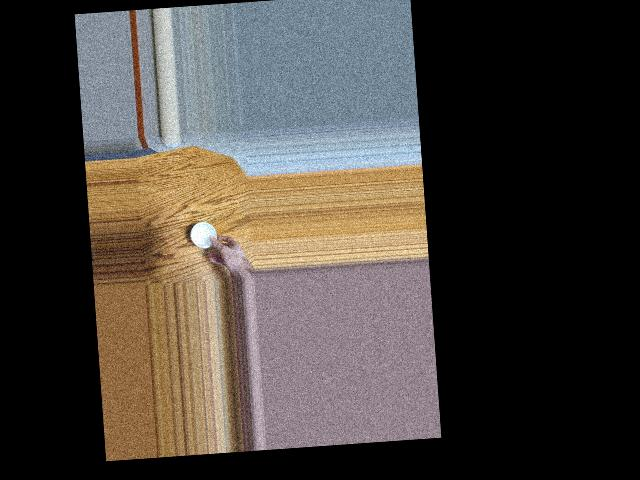cotage: (193, 223, 218, 249)
